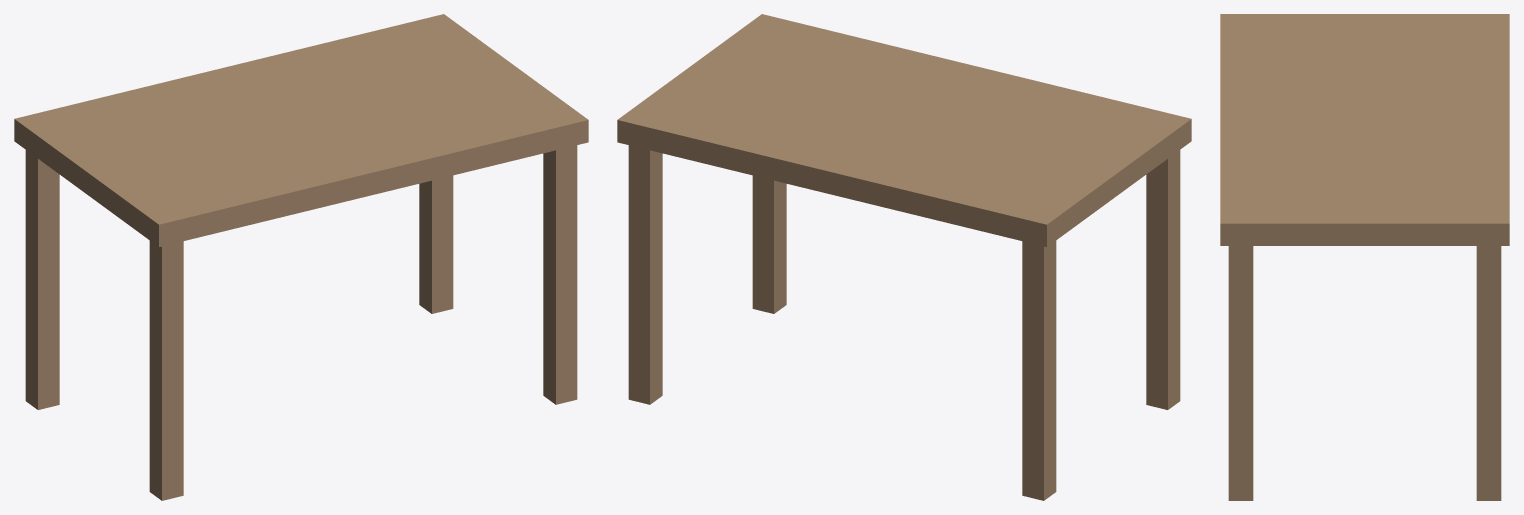
The model's file is table.glb.
The picture shows the model from 3 angles, left to right: view 1: azimuth 30°, elevation 25°; view 2: azimuth 150°, elevation 25°; view 3: azimuth 270°, elevation 25°; orthographic projection.
Visible parts, largest first — view 1: geometry_0, geometry_2, geometry_4, geometry_1, geometry_3; view 2: geometry_0, geometry_1, geometry_3, geometry_2, geometry_4; view 3: geometry_0, geometry_3, geometry_4.
Boxes of the visible parts, <box> form: geometry_0: <box>14,14,588,246</box>; geometry_2: <box>149,241,183,500</box>; geometry_4: <box>543,145,577,404</box>; geometry_1: <box>25,150,59,409</box>; geometry_3: <box>419,175,453,313</box>; geometry_0: <box>617,14,1191,246</box>; geometry_1: <box>1022,241,1056,500</box>; geometry_3: <box>628,145,662,404</box>; geometry_2: <box>1146,150,1180,409</box>; geometry_4: <box>752,175,786,313</box>; geometry_0: <box>1220,14,1509,245</box>; geometry_3: <box>1476,246,1501,500</box>; geometry_4: <box>1228,246,1253,500</box>.
Bounding box in the file's own units: 1.2 × 0.75 × 0.7.
